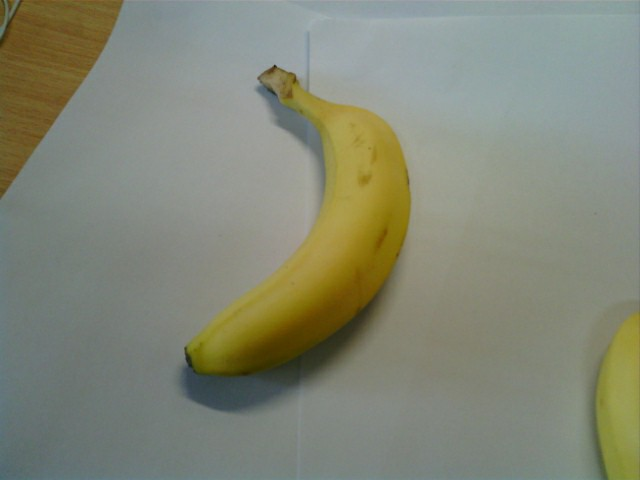fresh_banana: (185, 85, 414, 378)
